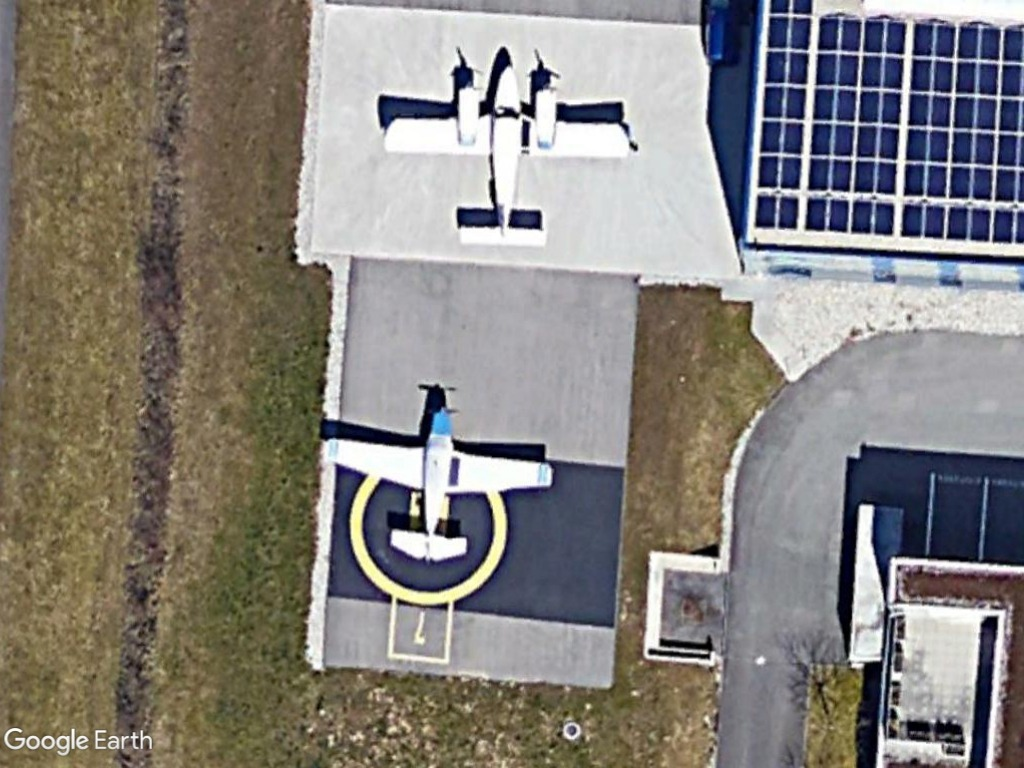propeller: (377, 66, 639, 253)
trainer: (316, 391, 559, 567)
